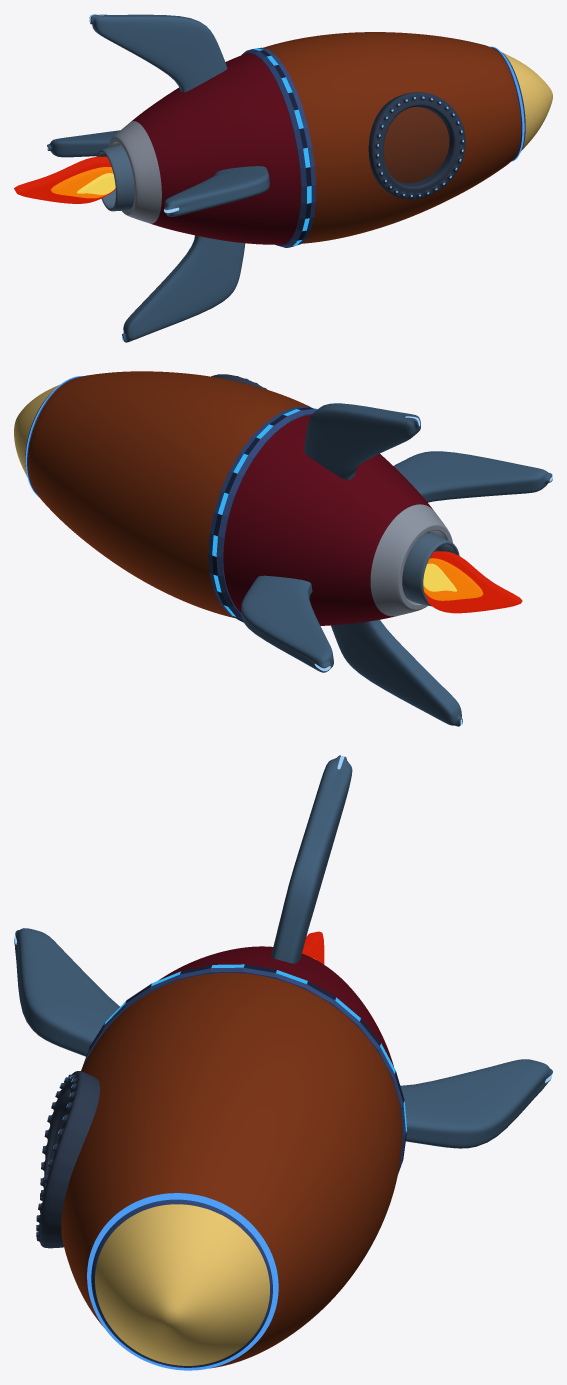
The model's file is cohete.glb.
3 renders of one model, top to bottom at view 1: azimuth 30°, elevation 25°; view 2: azimuth 150°, elevation 25°; view 3: azimuth 270°, elevation 25°, orthographic. The views are drawn at different scales.
Visible parts, largest first — view 1: Cylinder, Cube.001, Cylinder.001, Sphere, Cylinder.004, Cube, Cylinder.002, Cube.002, Cube.003; view 2: Cylinder, Cube.001, Cylinder.004, Cube, Cylinder.002, Cube.002, Cube.003; view 3: Cylinder, Cube.001, Cylinder.001, Cylinder.004, Cylinder.003, Cylinder.005.
Part boxes in pixels (bbox=[...]): Cylinder: bbox=[108, 32, 552, 244]; Cube.001: bbox=[47, 14, 269, 342]; Cylinder.001: bbox=[368, 92, 465, 199]; Sphere: bbox=[384, 107, 449, 186]; Cylinder.004: bbox=[241, 47, 315, 247]; Cube: bbox=[14, 156, 115, 203]; Cylinder.002: bbox=[97, 144, 134, 211]; Cube.002: bbox=[51, 167, 113, 198]; Cube.003: bbox=[76, 173, 115, 194]; Cylinder: bbox=[14, 371, 452, 625]; Cube.001: bbox=[241, 403, 552, 726]; Cylinder.004: bbox=[208, 406, 317, 622]; Cube: bbox=[424, 551, 522, 613]; Cylinder.002: bbox=[402, 532, 459, 606]; Cube.002: bbox=[423, 558, 483, 600]; Cube.003: bbox=[423, 563, 456, 591]; Cylinder: bbox=[61, 946, 402, 1368]; Cube.001: bbox=[14, 755, 552, 1148]; Cylinder.001: bbox=[36, 1071, 100, 1248]; Cylinder.004: bbox=[82, 964, 406, 1173]; Cylinder.003: bbox=[87, 1193, 278, 1370]; Cylinder.005: bbox=[91, 1199, 272, 1367].
Size of the model in its own units: 3.36 by 1.96 by 1.92.
